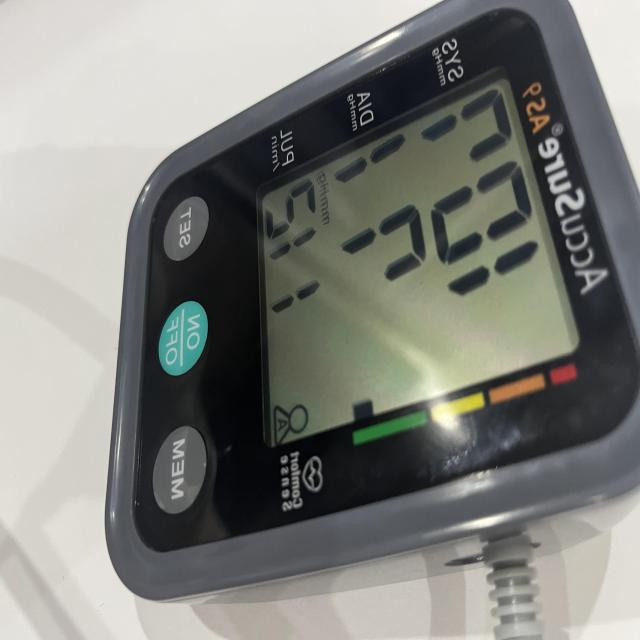bp: (104, 0, 640, 605)
